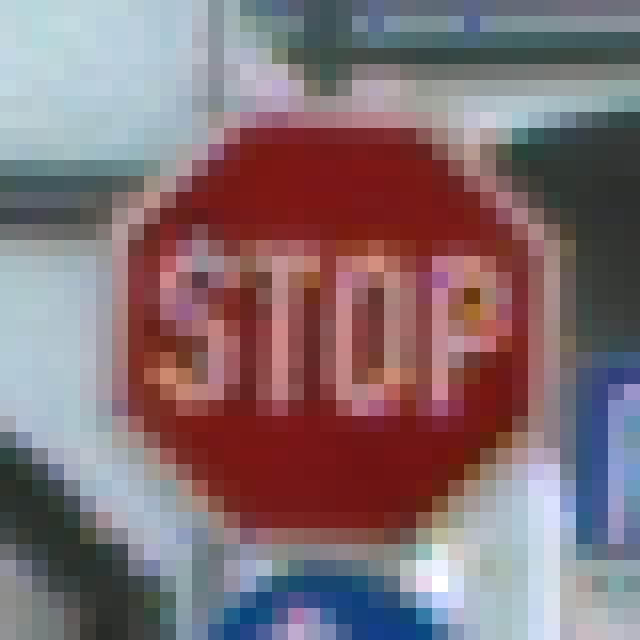STOP: (97, 97, 561, 545)
